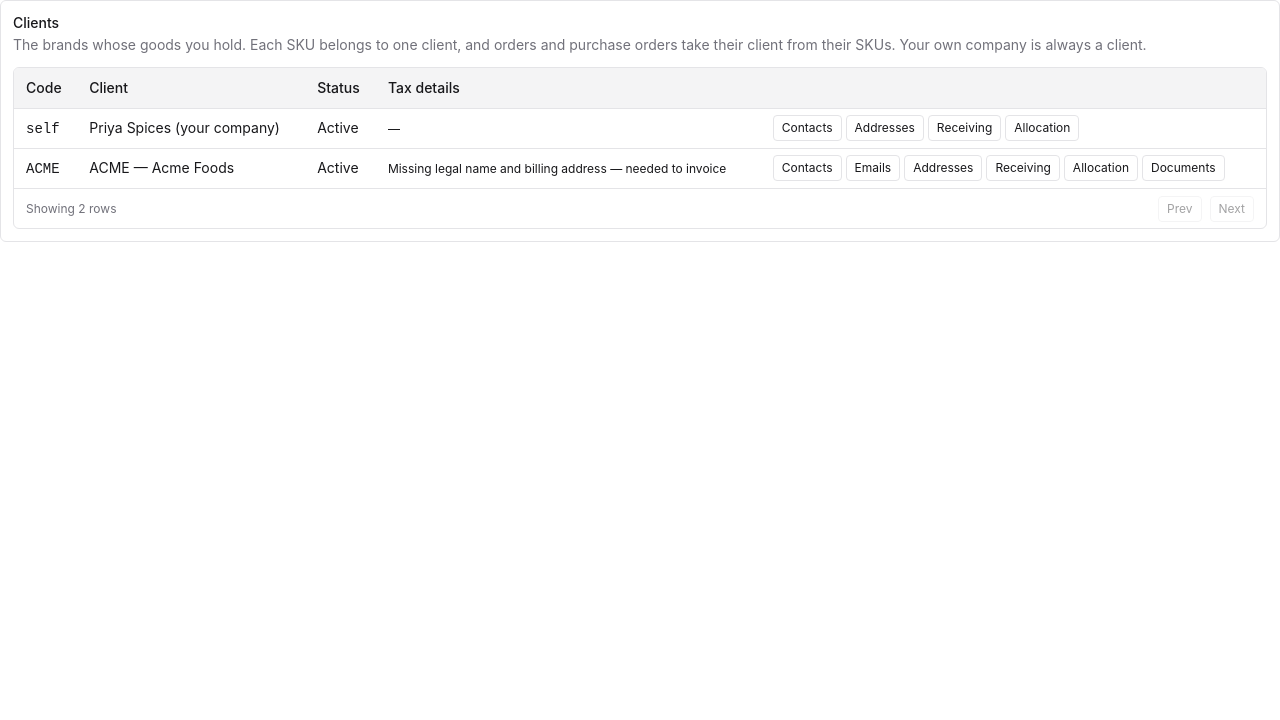
the Emails panel (story 5-2b) › a non-owner reads the log and the Reply-To, with no form; status words and IST times
The width and height of the screenshot is (1280, 720).
Click the button with aria-label "Emails of ACME": (873, 168) [846, 155, 900, 181]
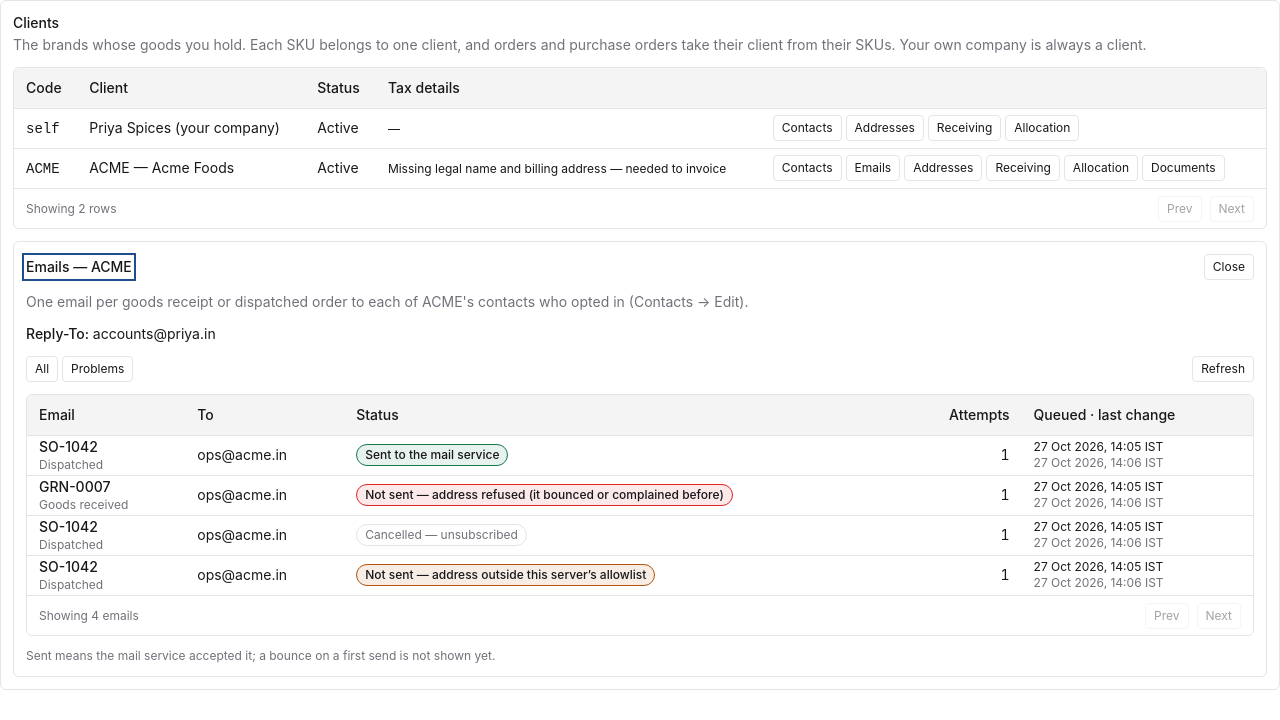
Check: the heading "Emails — ACME" is shown, box [26, 257, 132, 277]
Check: the text "SO-1042" is shown, box [39, 438, 98, 455]
Check: the text "Sent to the mail service" is shown, box [356, 444, 508, 466]
